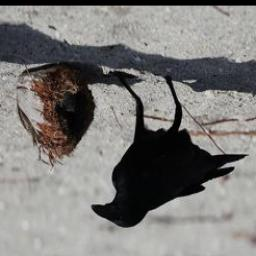Crow: (89, 70, 250, 229)
